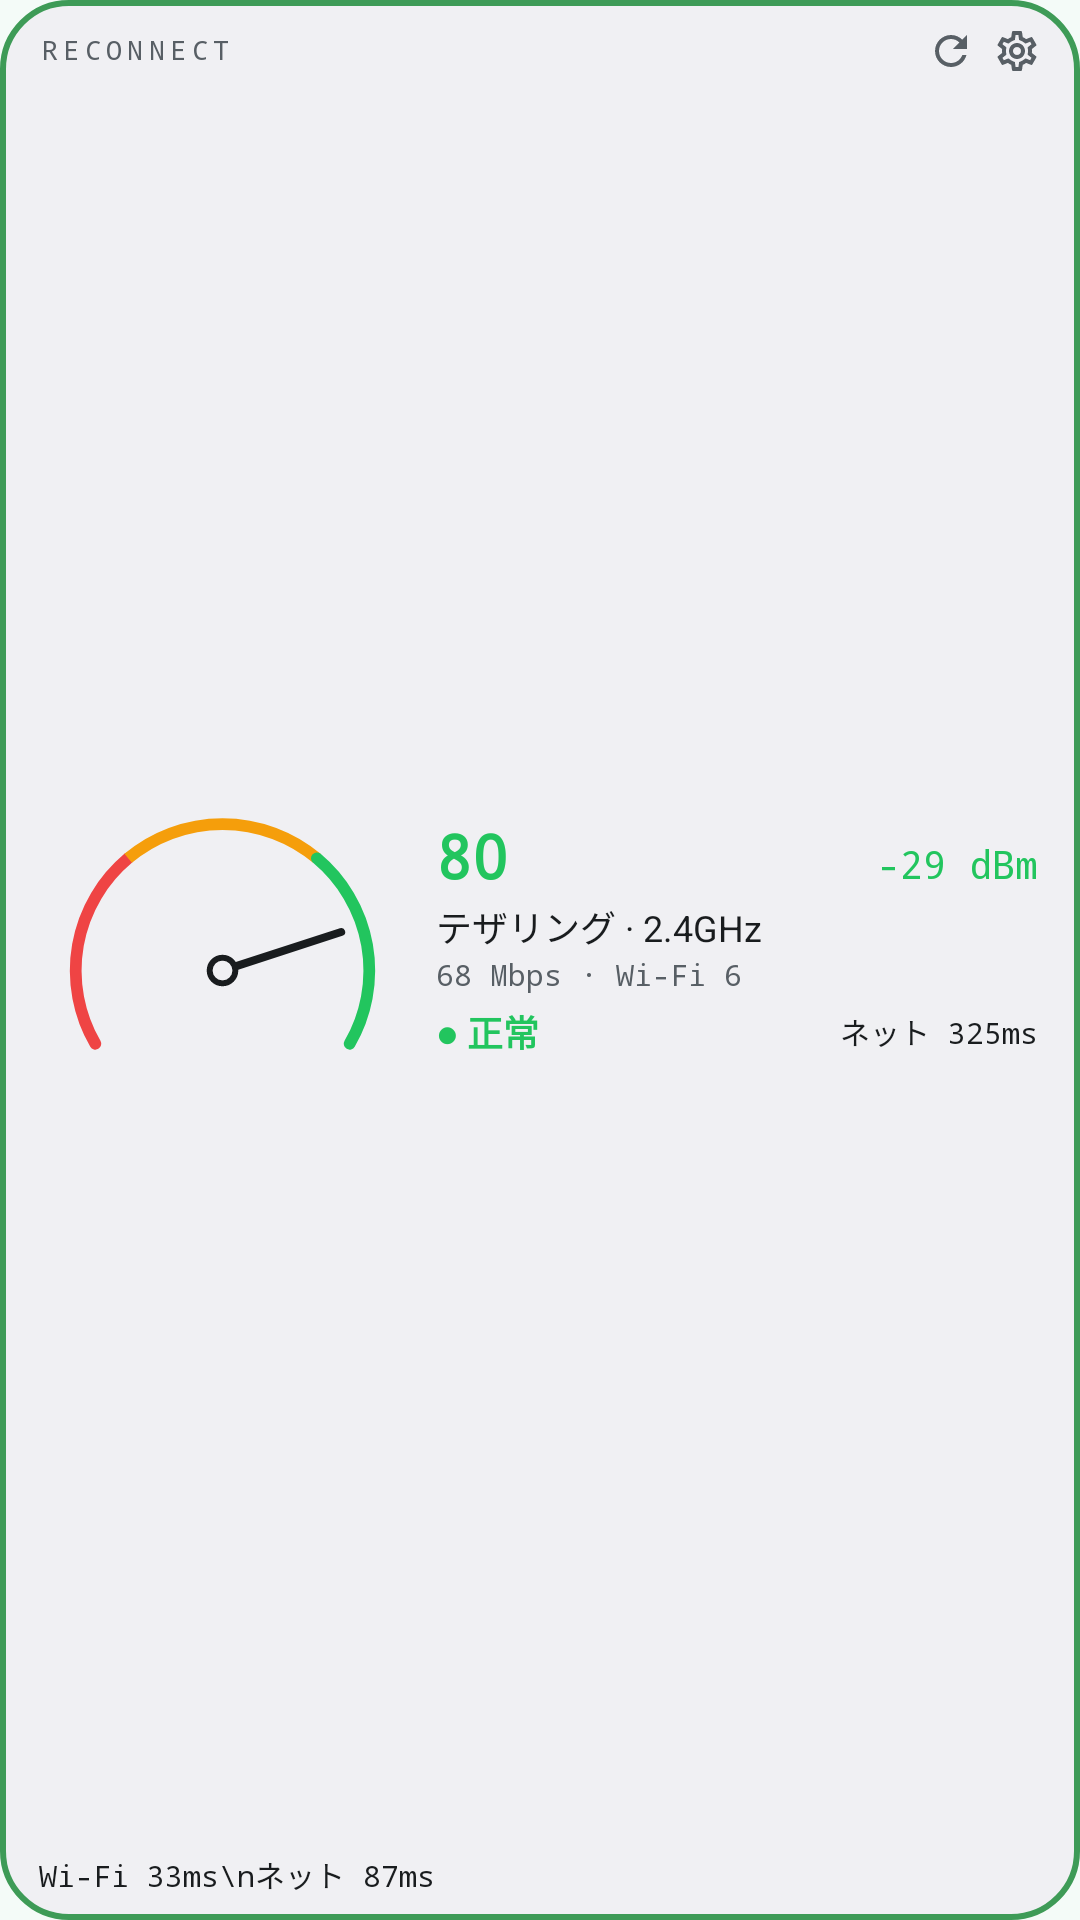

Where icons sit on this 1080px×1920px app screen, as [x1=x1, y1=y1, x2=x2, y2=y2]:
今すぐ再接続: [x1=935, y1=35, x2=967, y2=67]
設定: [x1=997, y1=31, x2=1037, y2=71]
